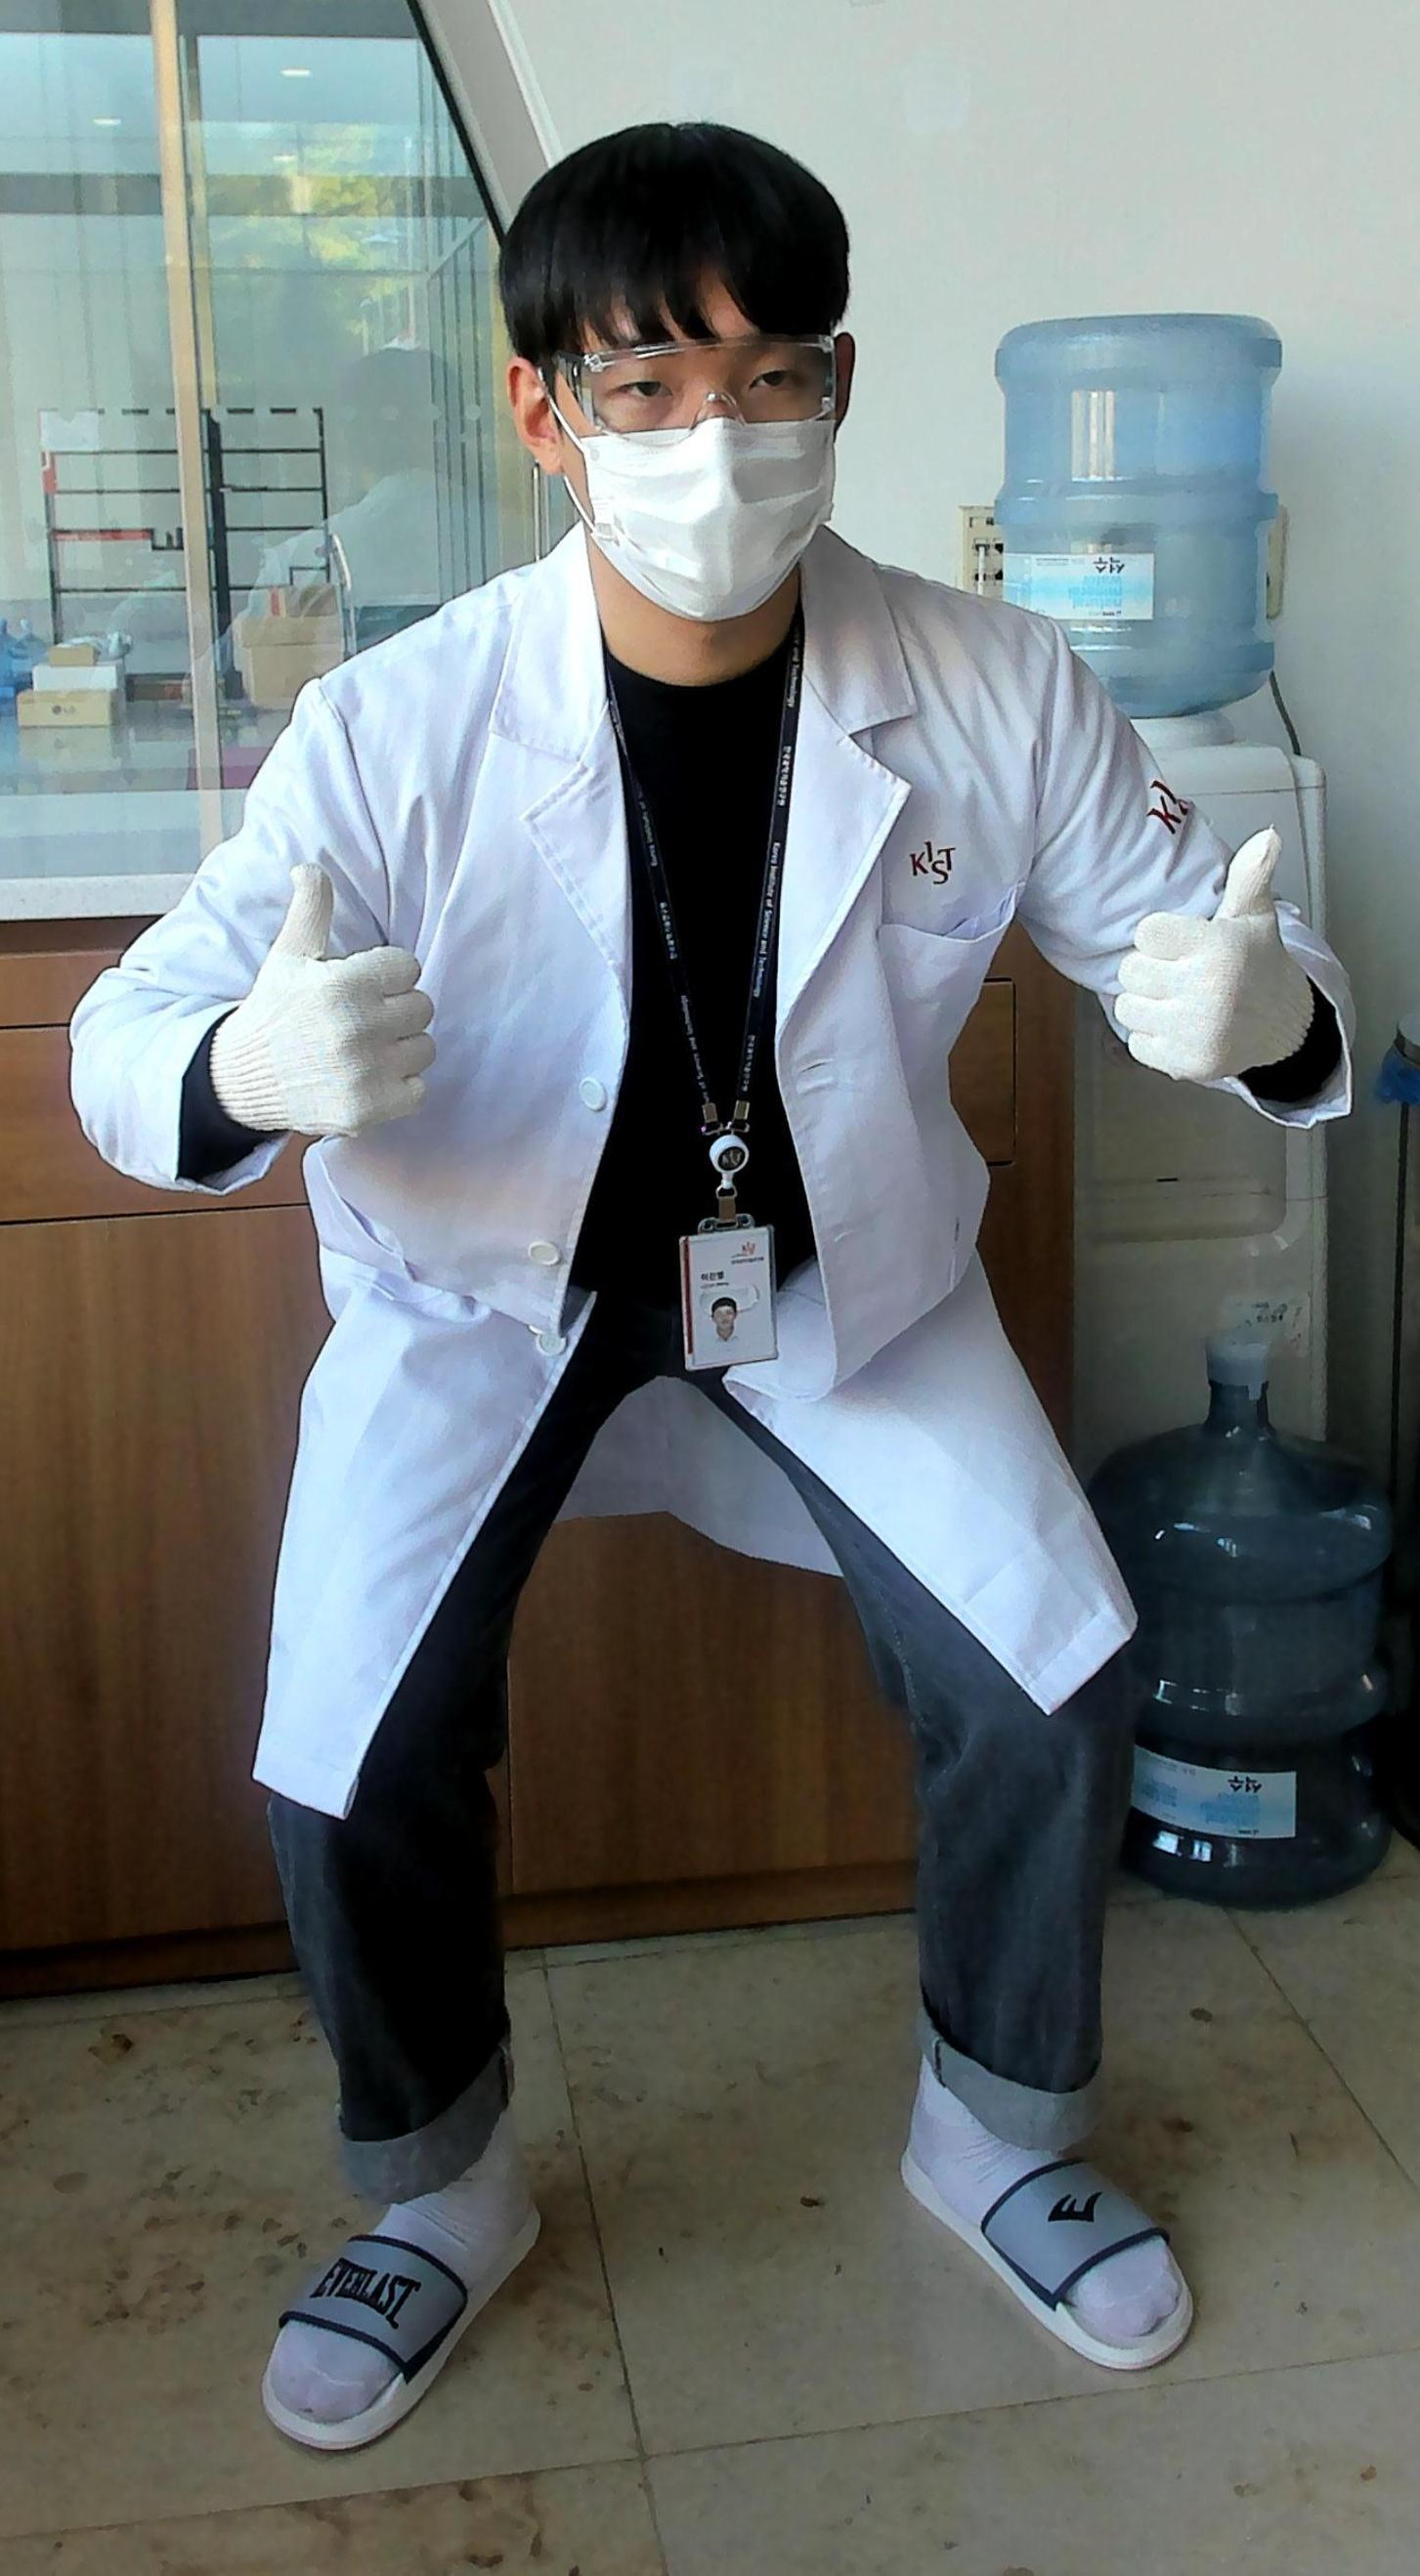lab_coat: (409, 563, 1109, 1713)
